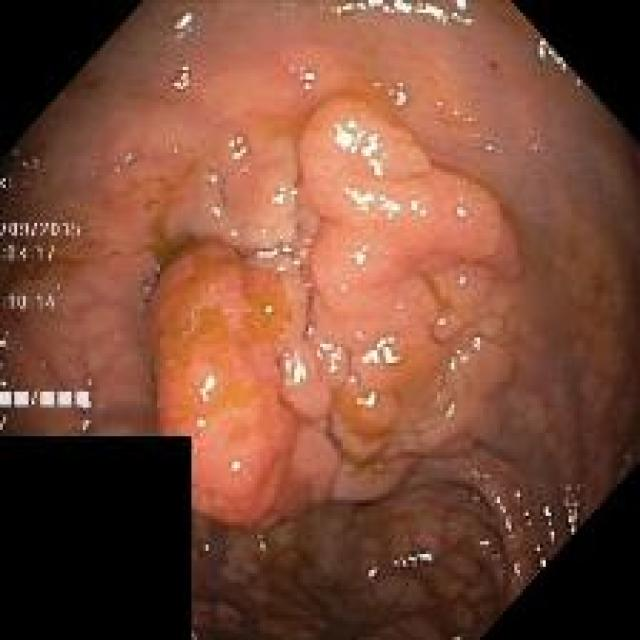Polyps: (151, 96, 520, 530)
